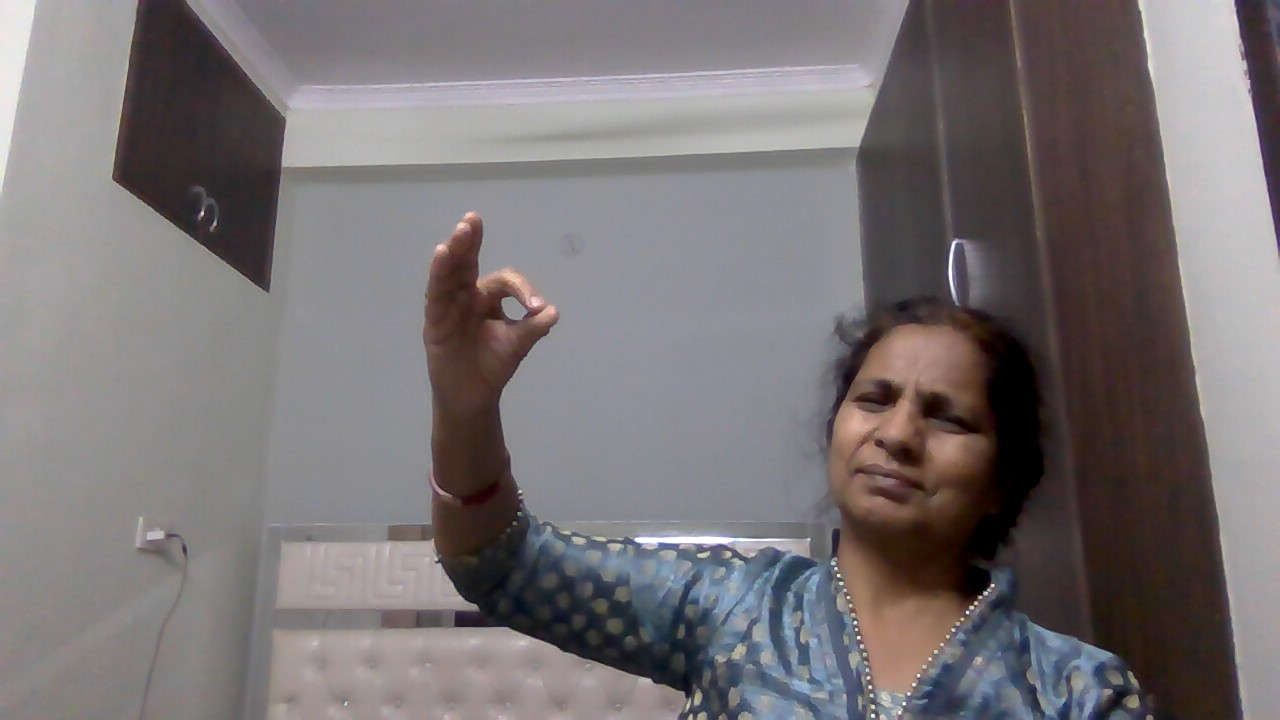Copy: (410, 198, 577, 427)
